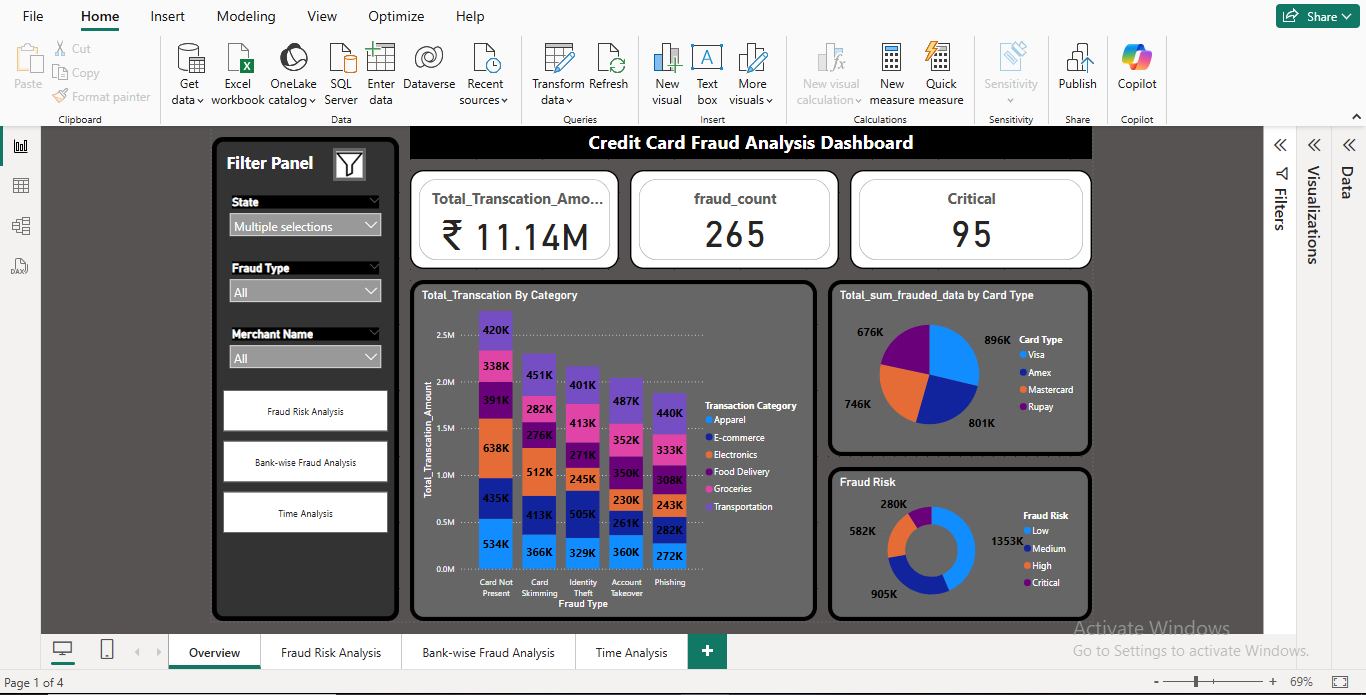

This screenshot's page, from the dashboard's own definition file:
{"tool":"powerbi","page":{"name":"Overview","canvas":[1280,720],"ordinal":0},"visuals":[{"type":"shape","box":[0,16,272,704],"z":0},{"type":"textbox","box":[288,0,992,48],"z":1000},{"type":"textbox","box":[16,32,208,48],"z":2000},{"type":"image","box":[176,32,48,48],"z":3000},{"type":"cardVisual","title":"Total Transaction","fields":{"Data":["Credit Card Fraud Risk Analysis.Total_Transcation_Amount"]},"box":[288,64,304,144],"z":4000},{"type":"cardVisual","fields":{"Data":["Credit Card Fraud Risk Analysis.fraud_count"]},"box":[608,64,304,144],"z":5000},{"type":"cardVisual","fields":{"Data":["Credit Card Fraud Risk Analysis.Critical_data"]},"box":[928,64,352,144],"z":6000},{"type":"columnChart","title":"Total_Transcation By Category","fields":{"Category":["Credit Card Fraud Risk Analysis.Fraud Type"],"Y":["Credit Card Fraud Risk Analysis.Total_Transcation_Amount"],"Series":["Credit Card Fraud Risk Analysis.Transaction Category"]},"box":[288,224,592,496],"z":7000},{"type":"pieChart","fields":{"Category":["Credit Card Fraud Risk Analysis.Card Type"],"Y":["Credit Card Fraud Risk Analysis.Total_sum_frauded_data"]},"box":[896,224,384,256],"z":8000},{"type":"donutChart","title":"Fraud Risk","fields":{"Category":["Credit Card Fraud Risk Analysis.Fraud Risk"],"Y":["Credit Card Fraud Risk Analysis.Total_sum_frauded_data"]},"box":[896,496,384,224],"z":9000},{"type":"slicer","fields":{"Values":["Credit Card Fraud Risk Analysis.Fraud Type"]},"box":[16,192,240,80],"z":10000},{"type":"slicer","fields":{"Values":["Credit Card Fraud Risk Analysis.State"]},"box":[16,96,240,80],"z":11000},{"type":"slicer","fields":{"Values":["Credit Card Fraud Risk Analysis.Merchant Name"]},"box":[16,288,240,80],"z":12000},{"type":"pageNavigator","box":[16,384,240,208],"z":14000}]}

Visuals, with their boxes on the page's 1280x720 design canvas (x1, y1, x2, y2). These are canvas units, not pixel positions in the 1366x695 screenshot, which may show the page scaled, cropped or inside an application window:
shape: region(0, 16, 272, 720)
textbox: region(288, 0, 1280, 48)
textbox: region(16, 32, 224, 80)
image: region(176, 32, 224, 80)
"Total Transaction" cardVisual: region(288, 64, 592, 208)
cardVisual - Credit Card Fraud Risk Analysis.fraud_count: region(608, 64, 912, 208)
cardVisual - Credit Card Fraud Risk Analysis.Critical_data: region(928, 64, 1280, 208)
"Total_Transcation By Category" columnChart: region(288, 224, 880, 720)
pieChart - Credit Card Fraud Risk Analysis.Card Type x Credit Card Fraud Risk Analysis.Total_sum_frauded_data: region(896, 224, 1280, 480)
"Fraud Risk" donutChart: region(896, 496, 1280, 720)
slicer - Credit Card Fraud Risk Analysis.Fraud Type: region(16, 192, 256, 272)
slicer - Credit Card Fraud Risk Analysis.State: region(16, 96, 256, 176)
slicer - Credit Card Fraud Risk Analysis.Merchant Name: region(16, 288, 256, 368)
pageNavigator: region(16, 384, 256, 592)
